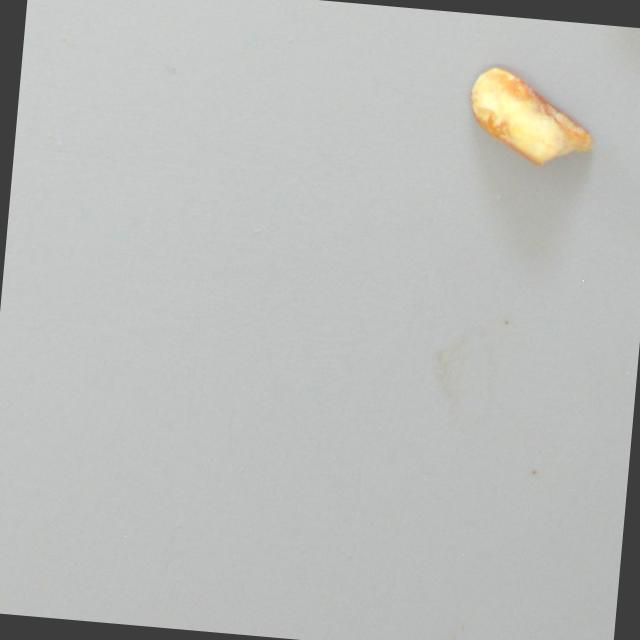dañado: (465, 57, 604, 171)
